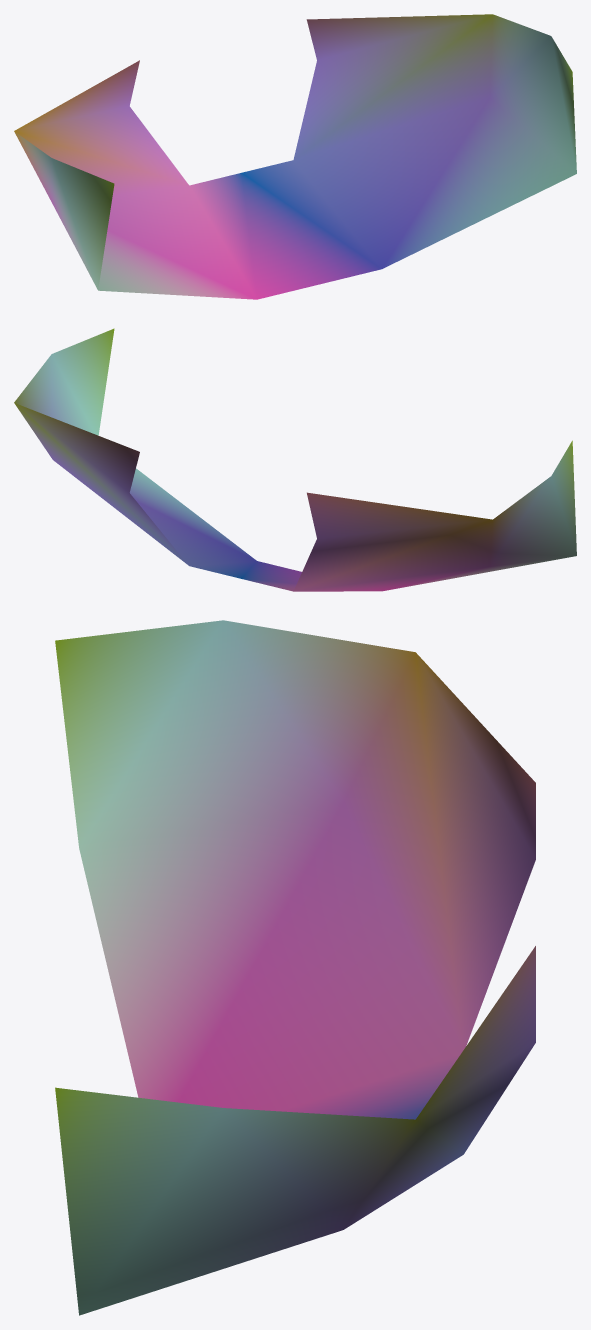
The picture shows the model from 3 angles, top to bottom: view 1: azimuth 30°, elevation 25°; view 2: azimuth 150°, elevation 25°; view 3: azimuth 270°, elevation 25°; orthographic projection. The views are drawn at different scales.
Parts seen in each view (by area): view 1: part; view 2: part; view 3: part.
Boxes of the visible parts, x1,y1,x2,y2 form: part: [14, 14, 576, 299]; part: [14, 328, 576, 591]; part: [55, 620, 535, 1315].
Size of the model in its own units: 48 by 16 by 20.
